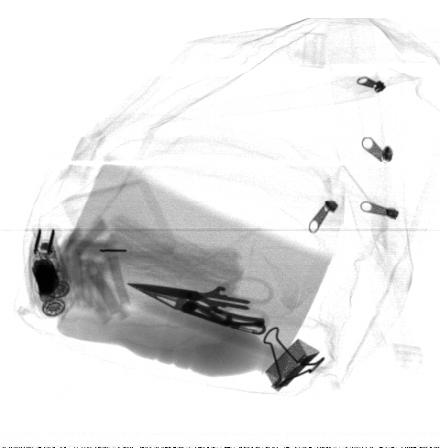Knife: (127, 286, 267, 336)
Scissors: (126, 275, 275, 335)
